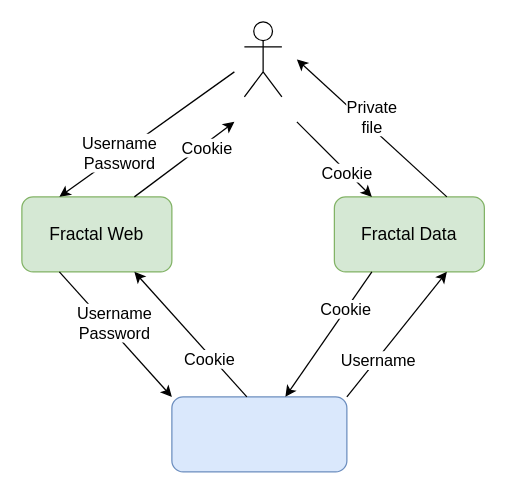
This 506x494 diagram has some shape labels left out. Each missing label, with the centre of its shape:
"Fractal Server" goes at pixel 259 434.
"User" goes at pixel 262 59.
